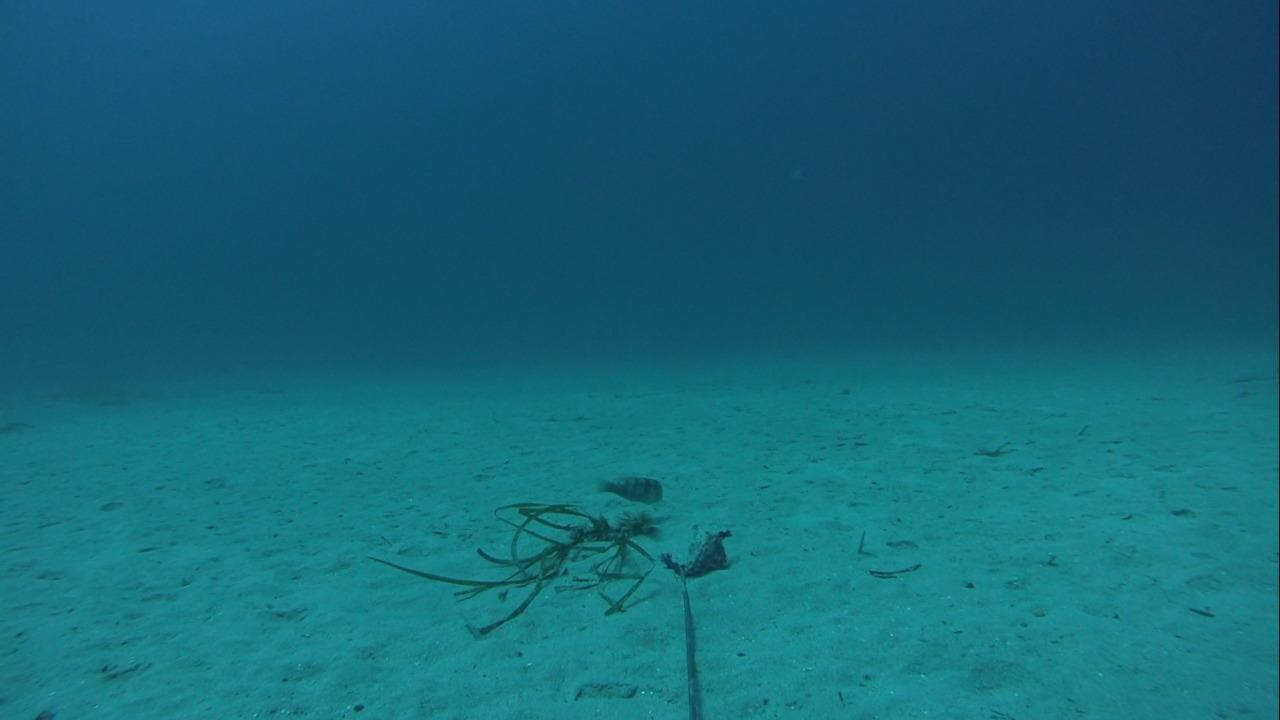raor: (593, 472, 665, 506)
